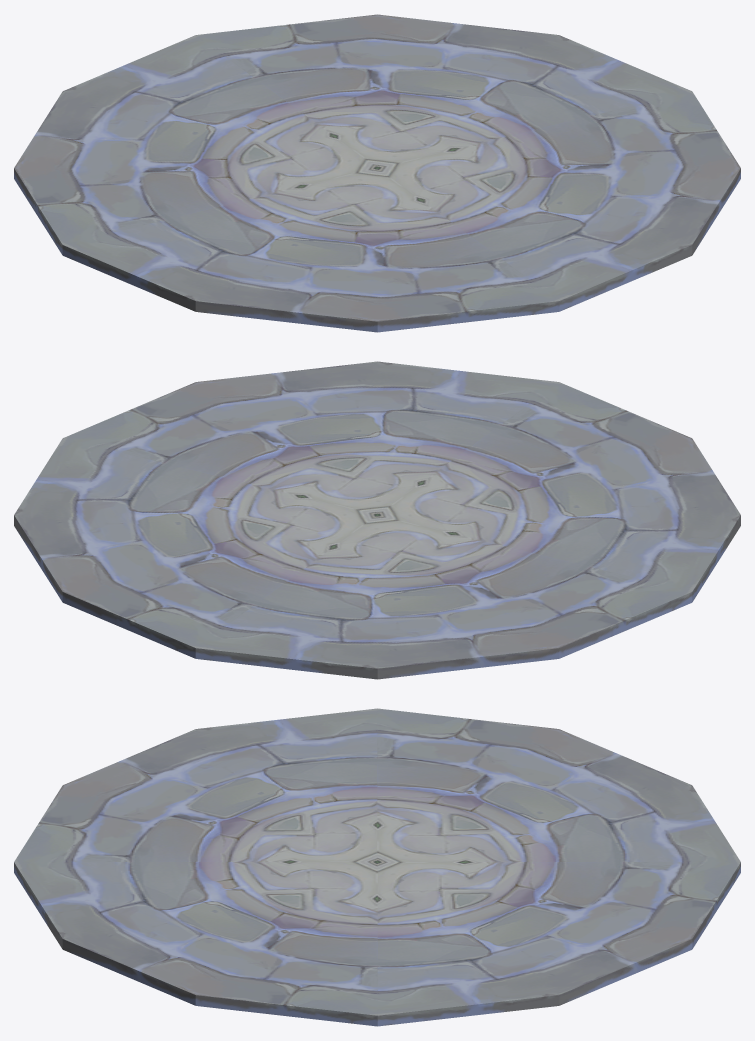
The model's file is Map_10_platform01.FBX.
The picture shows the model from 3 angles, top to bottom: view 1: azimuth 30°, elevation 25°; view 2: azimuth 150°, elevation 25°; view 3: azimuth 270°, elevation 25°; orthographic projection.
Parts seen in each view (by area): view 1: Map_10_platform01; view 2: Map_10_platform01; view 3: Map_10_platform01.
Part boxes in pixels (box(x1,y1,x2,y2)): Map_10_platform01: box(14, 14, 740, 332); Map_10_platform01: box(14, 361, 740, 679); Map_10_platform01: box(14, 708, 740, 1026).
Bounding box in the file's own units: 849 × 849 × 13.89.
